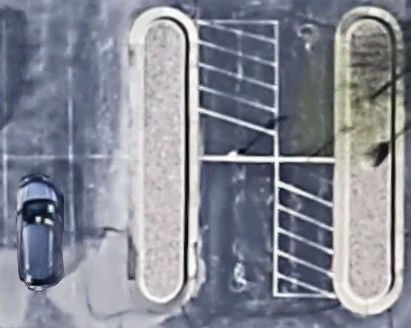Occupied: (4, 158, 73, 294)
Vacant: (194, 158, 276, 295), (4, 18, 72, 157), (277, 21, 341, 159), (71, 18, 134, 157), (72, 156, 134, 294)
